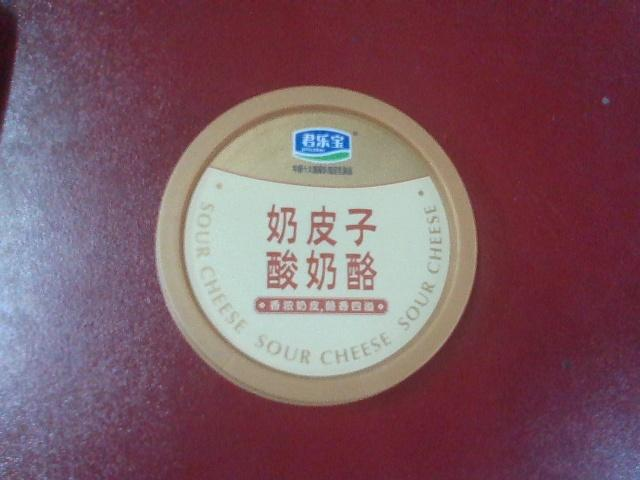lid: (150, 83, 485, 412)
